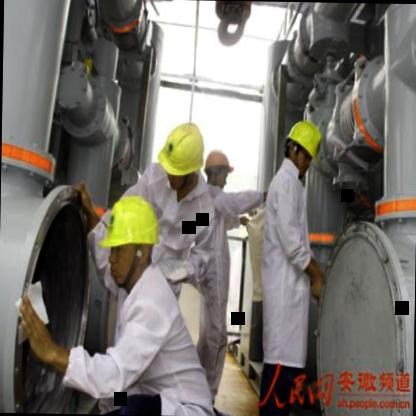helmet: (100, 194, 160, 290), (156, 113, 210, 198), (282, 115, 324, 177), (201, 144, 233, 191)
